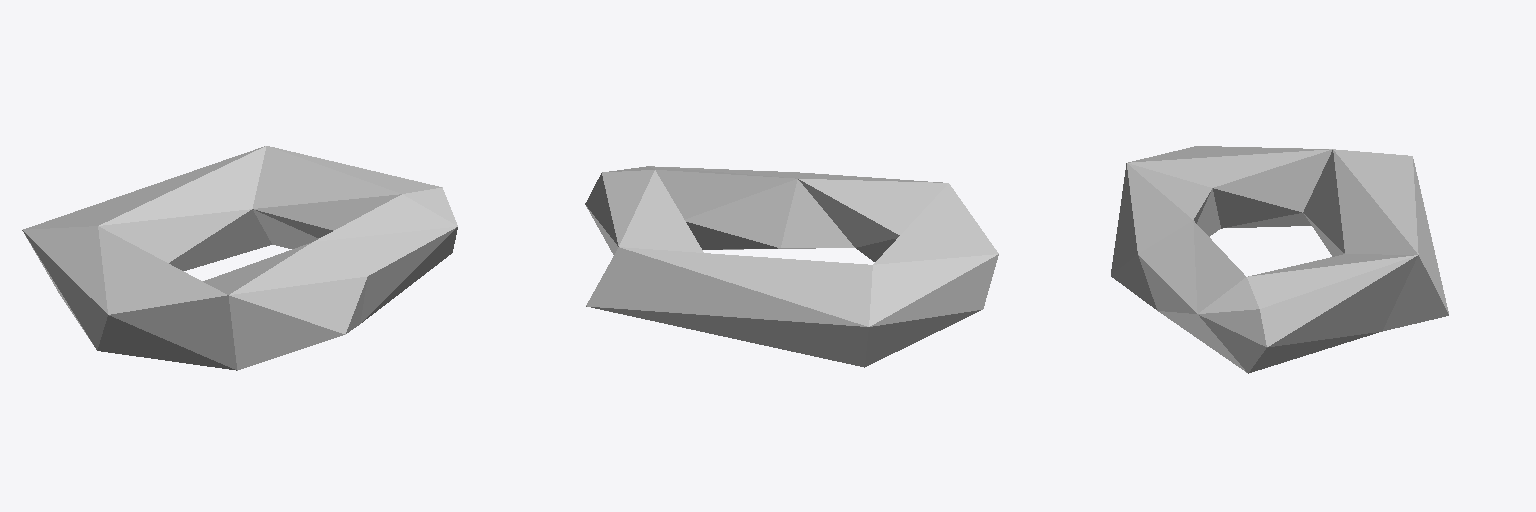
Rendered from MK_outline.obj.
The picture shows the model from 3 angles: view 1: azimuth 30°, elevation 25°; view 2: azimuth 150°, elevation 25°; view 3: azimuth 270°, elevation 25°; orthographic projection.
Visible parts, largest first — view 1: MK.001_CUCurve.1633; view 2: MK.001_CUCurve.1633; view 3: MK.001_CUCurve.1633.
Part boxes in pixels (bbox=[...]): MK.001_CUCurve.1633: bbox=[22, 146, 457, 370]; MK.001_CUCurve.1633: bbox=[585, 166, 998, 367]; MK.001_CUCurve.1633: bbox=[1111, 146, 1448, 373].
Bounding box in the file's own units: 0.0189 × 0.0041 × 0.0147.